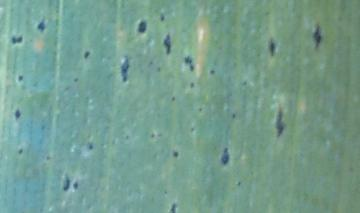tarspot: (275, 108, 284, 138), (121, 57, 129, 83), (163, 33, 172, 56), (182, 56, 195, 71), (313, 24, 321, 48), (37, 18, 47, 32), (137, 20, 147, 34), (10, 35, 23, 45), (220, 149, 228, 165), (62, 178, 71, 191), (268, 38, 274, 57), (158, 12, 166, 23), (170, 202, 178, 213), (15, 108, 21, 120), (83, 50, 90, 59), (43, 154, 51, 161), (172, 150, 179, 158), (17, 147, 23, 156), (72, 181, 78, 190), (207, 69, 216, 75), (242, 79, 248, 88), (17, 74, 24, 81), (155, 66, 162, 73), (88, 143, 94, 151), (189, 80, 195, 88), (230, 112, 236, 120), (188, 126, 195, 132), (124, 134, 130, 141), (73, 76, 79, 82), (171, 96, 177, 102), (163, 190, 169, 196), (236, 180, 241, 187), (149, 133, 156, 138), (147, 61, 154, 66), (198, 107, 203, 113)
